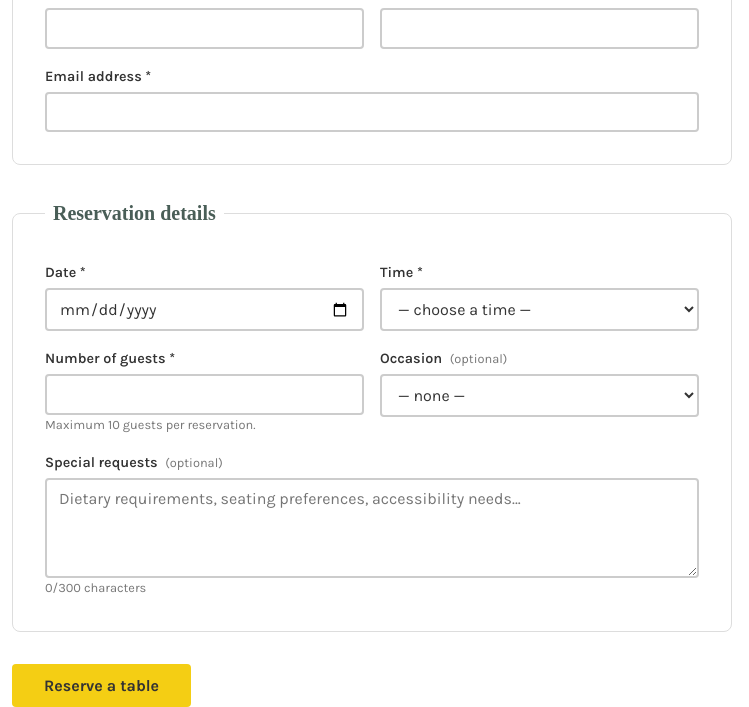
Scenario: BookingForm validation › shows required field errors when submitting an empty form
(page scrolled)
What coordinates should you click on to do the following:
click the button "Reserve a table"
I would click on:
 (102, 685)
Its box is [12,664,191,706].
(page scrolled)
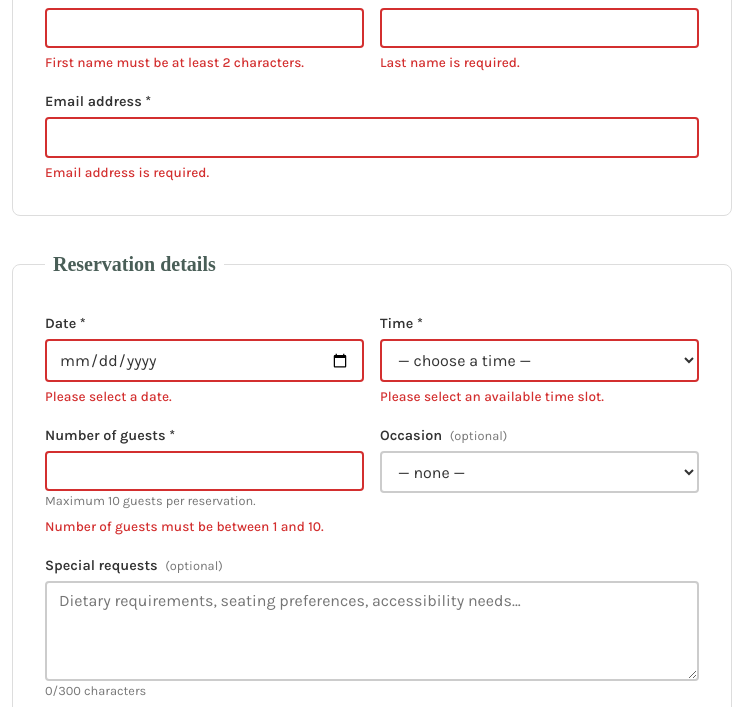
Now the text "First name must be at least 2 characters." is shown, box [45,55,304,70]
Now the text "Last name is required." is shown, box [380,55,520,70]
Now the text "Email address is required." is shown, box [45,165,209,180]
